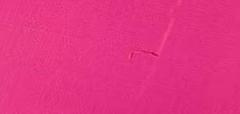snag: (128, 46, 162, 63)
